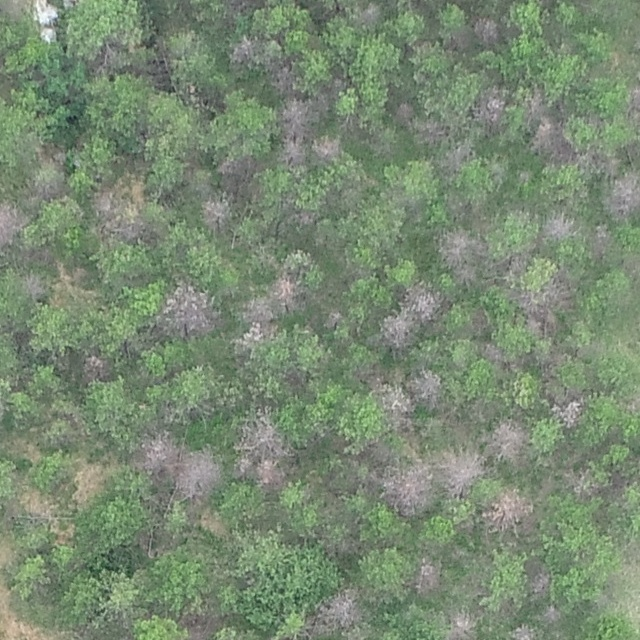unhealthy: (232, 406, 291, 480), (157, 281, 219, 338), (515, 276, 572, 336), (381, 459, 434, 516), (177, 447, 227, 501), (361, 370, 413, 421), (438, 228, 481, 284), (437, 448, 486, 496), (312, 587, 363, 633), (481, 487, 535, 528), (129, 428, 177, 473), (486, 418, 529, 462), (605, 170, 639, 221), (402, 281, 445, 321), (407, 367, 445, 409), (471, 84, 508, 127), (529, 116, 566, 156), (90, 181, 129, 218), (181, 604, 221, 640), (278, 96, 314, 136), (377, 310, 413, 349), (88, 39, 123, 76), (0, 199, 26, 248), (439, 142, 475, 177), (550, 394, 586, 429), (99, 217, 147, 243), (266, 59, 297, 97), (413, 558, 443, 596), (26, 173, 66, 201), (272, 269, 304, 304), (200, 196, 231, 232), (237, 316, 274, 346), (35, 140, 68, 172), (243, 288, 279, 317), (81, 350, 114, 381), (414, 117, 449, 146), (542, 211, 577, 240), (215, 153, 255, 178), (445, 609, 478, 639), (516, 83, 543, 119), (228, 35, 259, 66), (471, 14, 500, 46), (588, 225, 615, 259), (279, 139, 309, 168), (503, 247, 532, 276), (313, 134, 343, 161), (21, 272, 49, 299), (356, 3, 384, 29), (445, 27, 473, 52), (627, 78, 640, 129), (527, 571, 552, 596), (0, 0, 30, 20), (480, 341, 507, 363), (623, 251, 640, 285), (538, 604, 562, 628), (393, 99, 415, 124), (509, 621, 538, 639), (292, 209, 316, 227), (628, 389, 639, 414)
